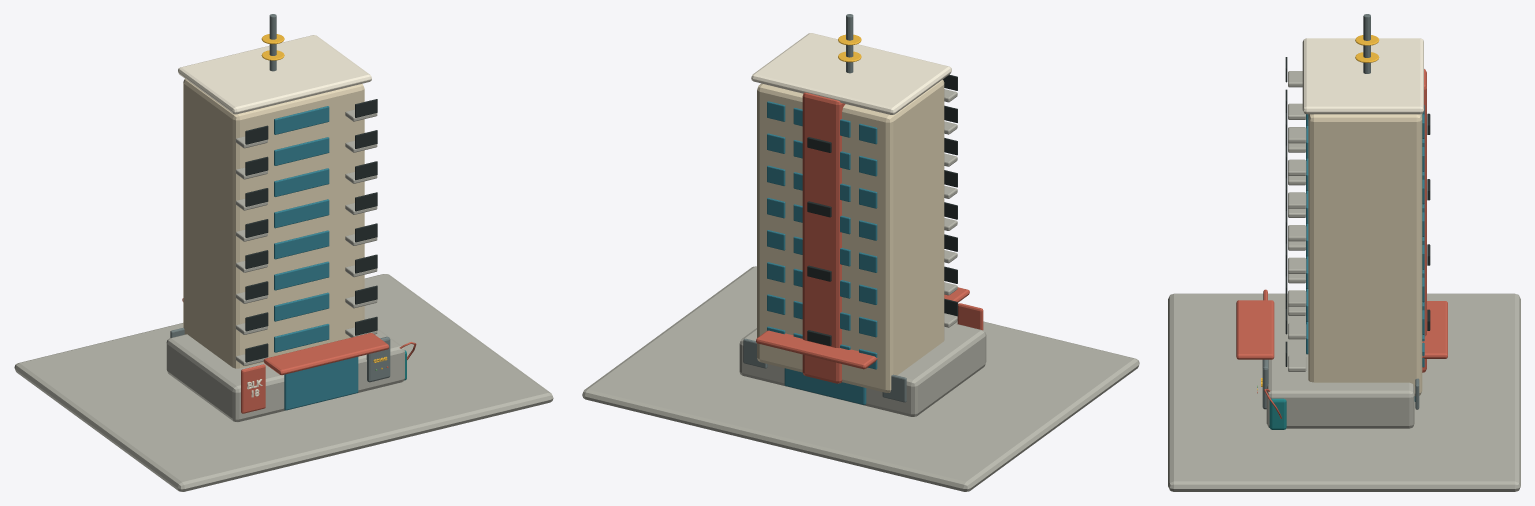
File: pointblock-call-v2.glb
The picture shows the model from 3 angles, left to right: view 1: azimuth 30°, elevation 25°; view 2: azimuth 150°, elevation 25°; view 3: azimuth 270°, elevation 25°; orthographic projection. The views are drawn at different scales.
Visible parts, largest first — view 1: Ground, MR TAN POINT BLOCK CALL KIT · Warm plaster, MR TAN POINT BLOCK CALL KIT · Graphic glass, MR TAN POINT BLOCK CALL KIT · Concrete, MR TAN POINT BLOCK CALL KIT · Chalk, MR TAN POINT BLOCK CALL KIT · Ink, MR TAN POINT BLOCK CALL KIT · Terracotta, MR TAN POINT BLOCK CALL KIT · Dark metal; view 2: Ground, MR TAN POINT BLOCK CALL KIT · Warm plaster, MR TAN POINT BLOCK CALL KIT · Terracotta, MR TAN POINT BLOCK CALL KIT · Chalk, MR TAN POINT BLOCK CALL KIT · Graphic glass, MR TAN POINT BLOCK CALL KIT · Concrete, MR TAN POINT BLOCK CALL KIT · Ink, MR TAN POINT BLOCK CALL KIT · Dark metal; view 3: Ground, MR TAN POINT BLOCK CALL KIT · Warm plaster, MR TAN POINT BLOCK CALL KIT · Concrete, MR TAN POINT BLOCK CALL KIT · Chalk, MR TAN POINT BLOCK CALL KIT · Terracotta, MR TAN POINT BLOCK CALL KIT · Graphic glass, MR TAN POINT BLOCK CALL KIT · Ink, MR TAN POINT BLOCK CALL KIT · Dark metal, MR TAN POINT BLOCK CALL KIT · Deep teal, MR TAN POINT BLOCK CALL KIT · Signal yellow.
Part boxes in pixels (x1,y1,x2,y2): Ground: (14, 274, 553, 491); MR TAN POINT BLOCK CALL KIT · Warm plaster: (183, 79, 364, 368); MR TAN POINT BLOCK CALL KIT · Graphic glass: (274, 106, 358, 410); MR TAN POINT BLOCK CALL KIT · Concrete: (166, 109, 404, 422); MR TAN POINT BLOCK CALL KIT · Chalk: (178, 35, 371, 397); MR TAN POINT BLOCK CALL KIT · Ink: (245, 99, 377, 362); MR TAN POINT BLOCK CALL KIT · Terracotta: (182, 298, 416, 413); MR TAN POINT BLOCK CALL KIT · Dark metal: (170, 14, 390, 382); Ground: (582, 266, 1139, 491); MR TAN POINT BLOCK CALL KIT · Warm plaster: (757, 79, 944, 392); MR TAN POINT BLOCK CALL KIT · Terracotta: (756, 92, 983, 383); MR TAN POINT BLOCK CALL KIT · Chalk: (751, 33, 951, 114); MR TAN POINT BLOCK CALL KIT · Graphic glass: (767, 101, 877, 404); MR TAN POINT BLOCK CALL KIT · Concrete: (739, 89, 986, 416); MR TAN POINT BLOCK CALL KIT · Ink: (807, 74, 957, 345); MR TAN POINT BLOCK CALL KIT · Dark metal: (743, 14, 906, 402); Ground: (1168, 293, 1520, 491); MR TAN POINT BLOCK CALL KIT · Warm plaster: (1308, 114, 1422, 395); MR TAN POINT BLOCK CALL KIT · Concrete: (1266, 71, 1414, 428); MR TAN POINT BLOCK CALL KIT · Chalk: (1302, 38, 1423, 114); MR TAN POINT BLOCK CALL KIT · Terracotta: (1236, 69, 1447, 418); MR TAN POINT BLOCK CALL KIT · Graphic glass: (1306, 105, 1424, 401); MR TAN POINT BLOCK CALL KIT · Ink: (1285, 57, 1430, 366); MR TAN POINT BLOCK CALL KIT · Dark metal: (1262, 14, 1419, 409); MR TAN POINT BLOCK CALL KIT · Deep teal: (1269, 398, 1286, 429); MR TAN POINT BLOCK CALL KIT · Signal yellow: (1257, 35, 1379, 390).
Size of the model in its own units: 12 by 11.14 by 9.3.
Materials: 1 (1 with a texture image).
